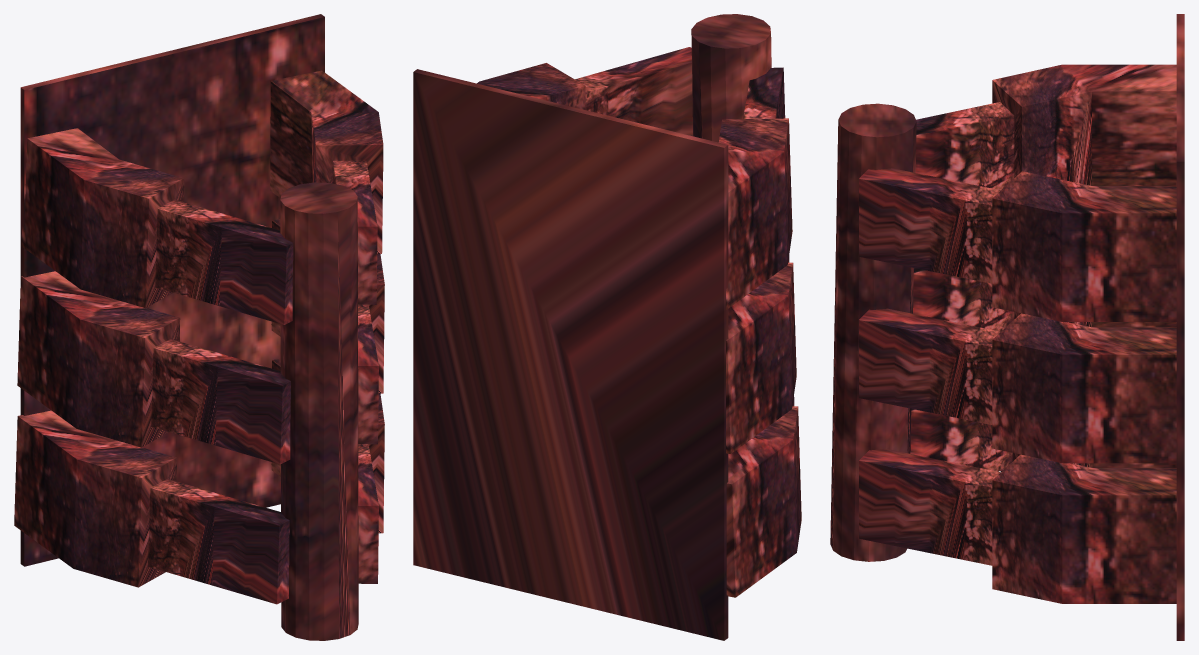
Rendered from gatetohell_wtf.obj.
The picture shows the model from 3 angles, left to right: view 1: azimuth 30°, elevation 25°; view 2: azimuth 150°, elevation 25°; view 3: azimuth 270°, elevation 25°; orthographic projection. The views are drawn at different scales.
Parts seen in each view (by area): view 1: group9, group4, group8, group3, group6, group2, group5, group7; view 2: group9, group3, group8, group6, group2, group4; view 3: group5, group2, group7, group3, group4, group9, group6, group8.
Part boxes in pixels (x1,y1,x2,y2): group9: (20, 14, 324, 566); group4: (280, 182, 358, 640); group8: (14, 410, 289, 604); group3: (21, 128, 293, 324); group6: (17, 271, 290, 464); group2: (270, 70, 383, 304); group5: (271, 219, 384, 444); group7: (271, 358, 384, 583); group9: (413, 69, 728, 640); group3: (718, 67, 792, 309); group8: (726, 396, 801, 597); group6: (726, 255, 796, 453); group2: (477, 47, 692, 136); group4: (691, 14, 771, 142); group5: (859, 308, 1176, 463); group2: (859, 168, 1176, 321); group7: (859, 449, 1176, 603); group3: (915, 64, 1176, 190); group4: (830, 103, 916, 561); group9: (1176, 14, 1184, 640); group6: (913, 268, 1176, 331); group8: (910, 408, 1176, 471).
Size of the model in its own units: 448 by 660 by 442.
